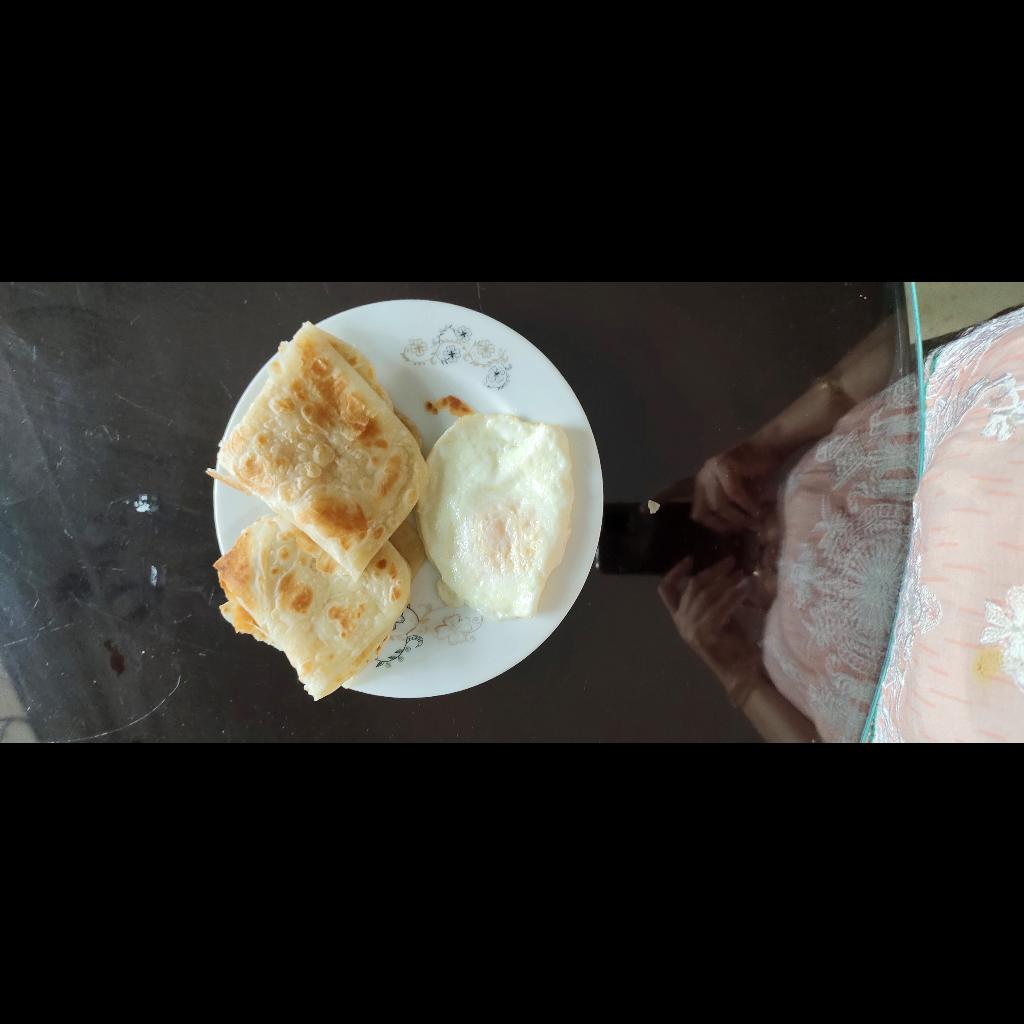egg-poached: (120, 685, 327, 860)
ruti: (43, 473, 429, 713)
